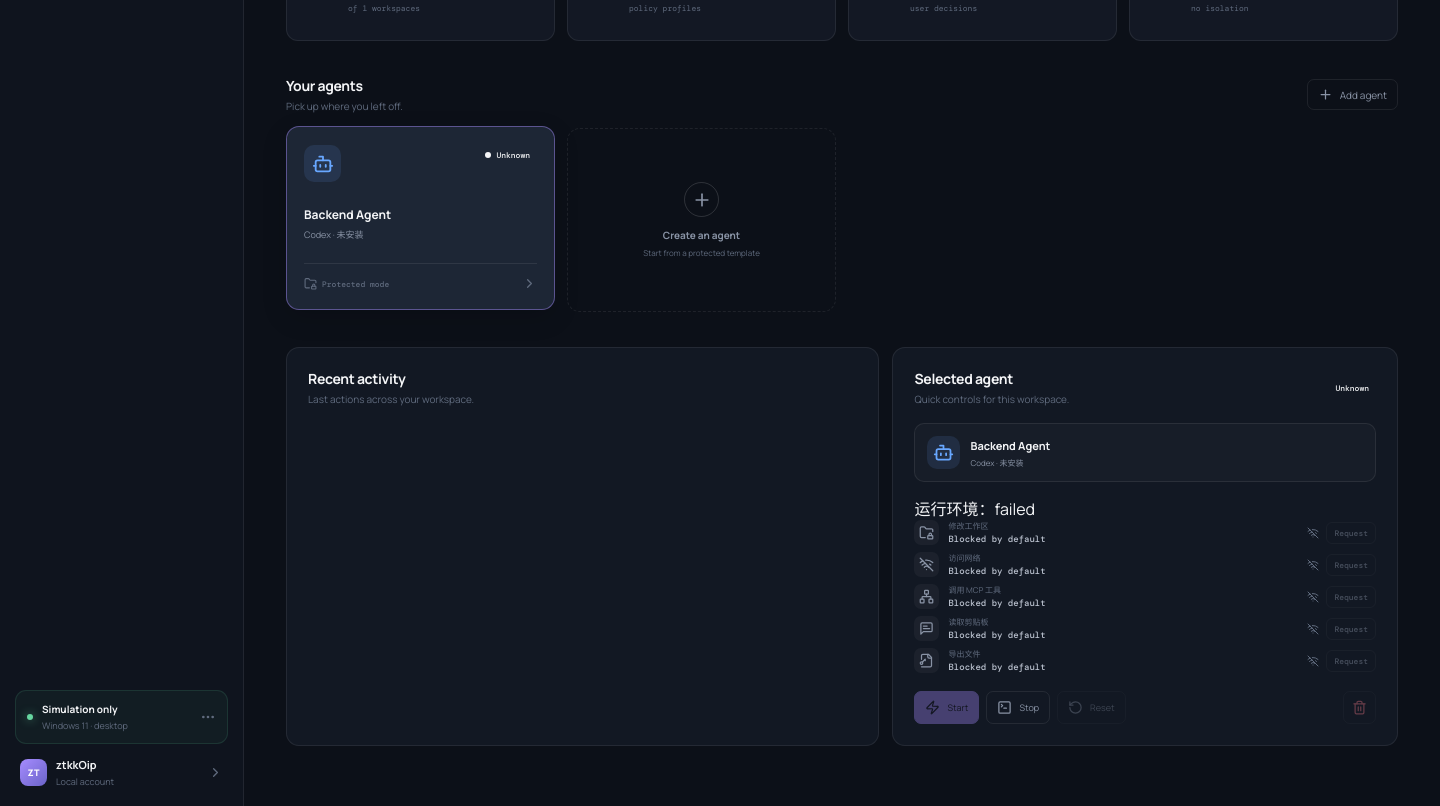
Test: console runtime UI › allows only stopping an unknown recovered process before editing its policy
The image size is (1440, 806).
(page scrolled)
expect the button "Start" is disabled: met, box [914, 691, 980, 724]
expect the button "Reset" is disabled: met, box [1057, 691, 1126, 724]
Click the button "Stop".
click(1018, 708)  # box [986, 691, 1050, 724]
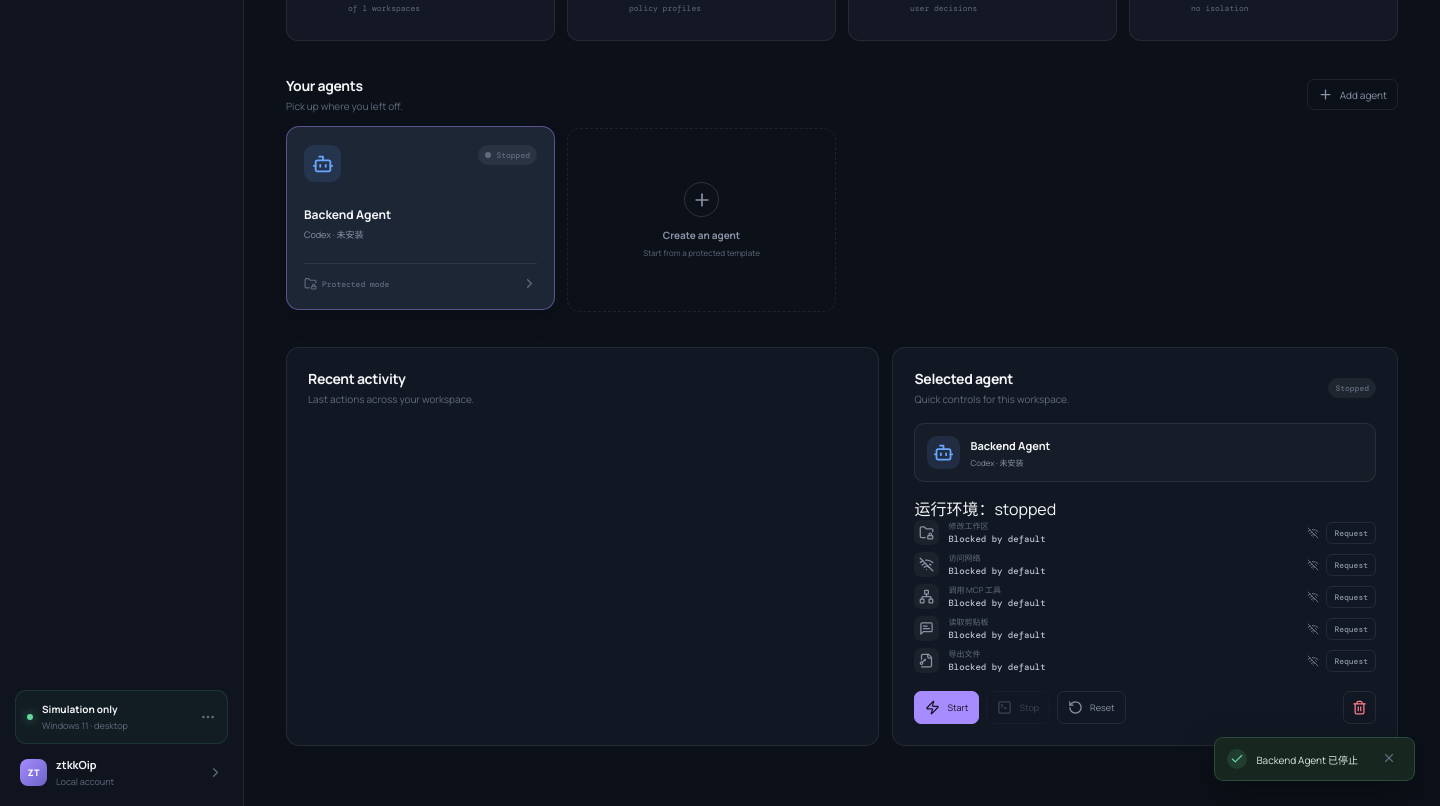
expect the button "Start" is enabled: met, box [914, 691, 980, 724]
